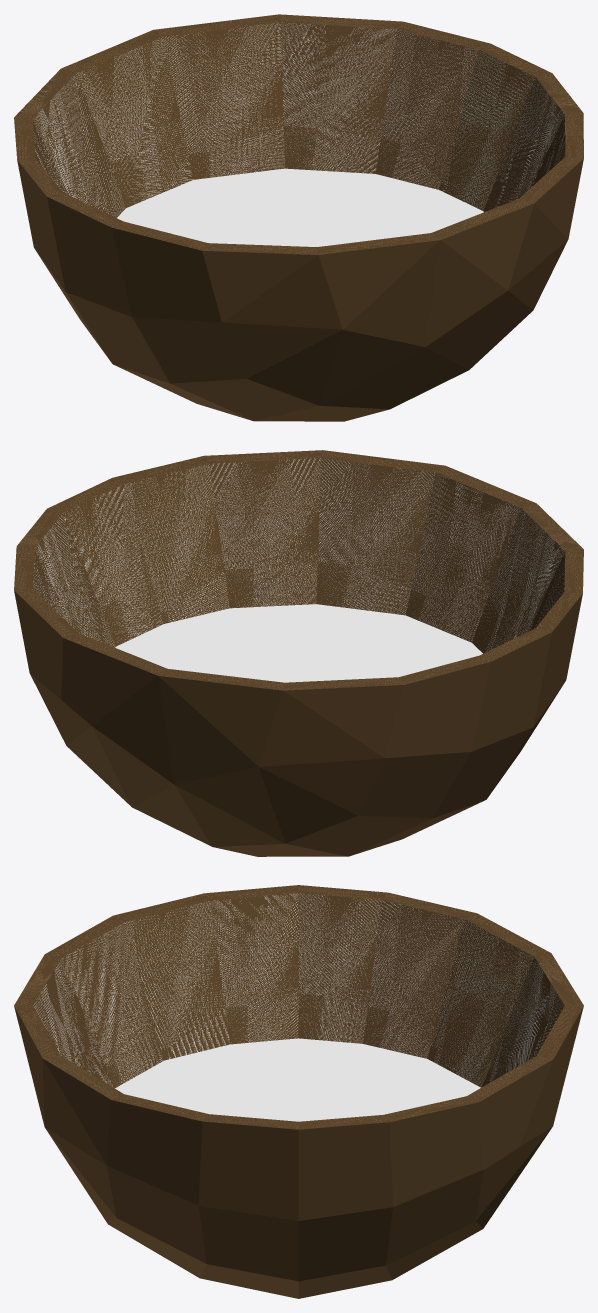
File: Coconut Half.fbx
3 renders of one model, top to bottom at view 1: azimuth 30°, elevation 25°; view 2: azimuth 150°, elevation 25°; view 3: azimuth 270°, elevation 25°, orthographic.
Parts seen in each view (by area): view 1: Coconut Half; view 2: Coconut Half; view 3: Coconut Half.
Boxes of the visible parts, x1,y1,x2,y2 form: Coconut Half: (14, 14, 583, 421); Coconut Half: (14, 450, 583, 856); Coconut Half: (14, 885, 583, 1298).
Bounding box in the file's own units: 25.11 × 12.8 × 24.71.
